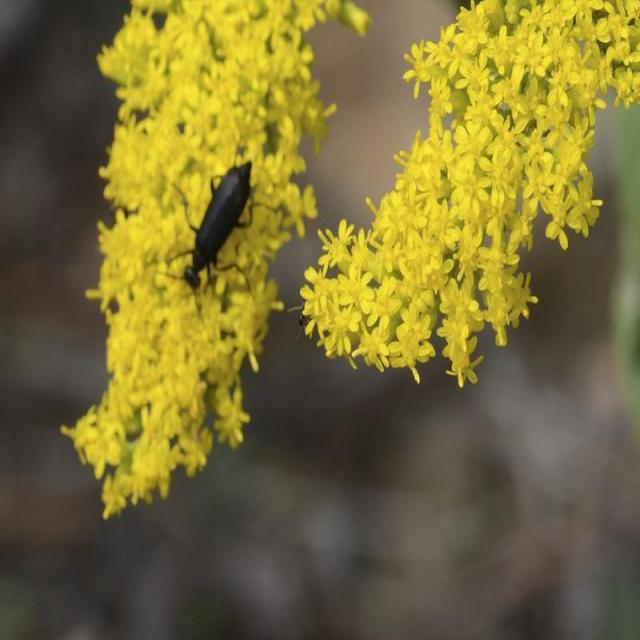BlisterBeetle-Adult-: (164, 154, 264, 298)
